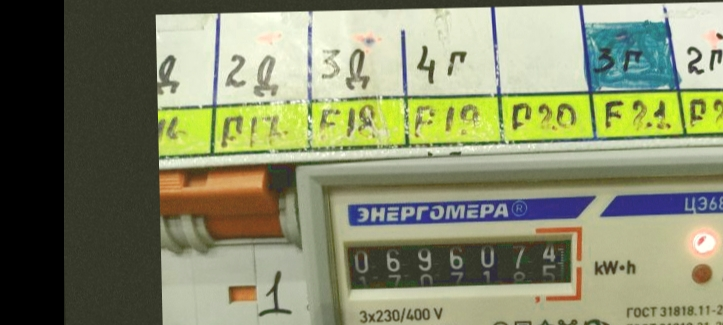0: (351, 249, 370, 274), (478, 243, 495, 269)
4: (540, 241, 556, 263)
5: (540, 264, 557, 284)
6: (446, 244, 464, 271), (383, 247, 401, 273)
7: (510, 243, 526, 270)
9: (415, 245, 431, 272)
screen: (332, 224, 587, 310)
